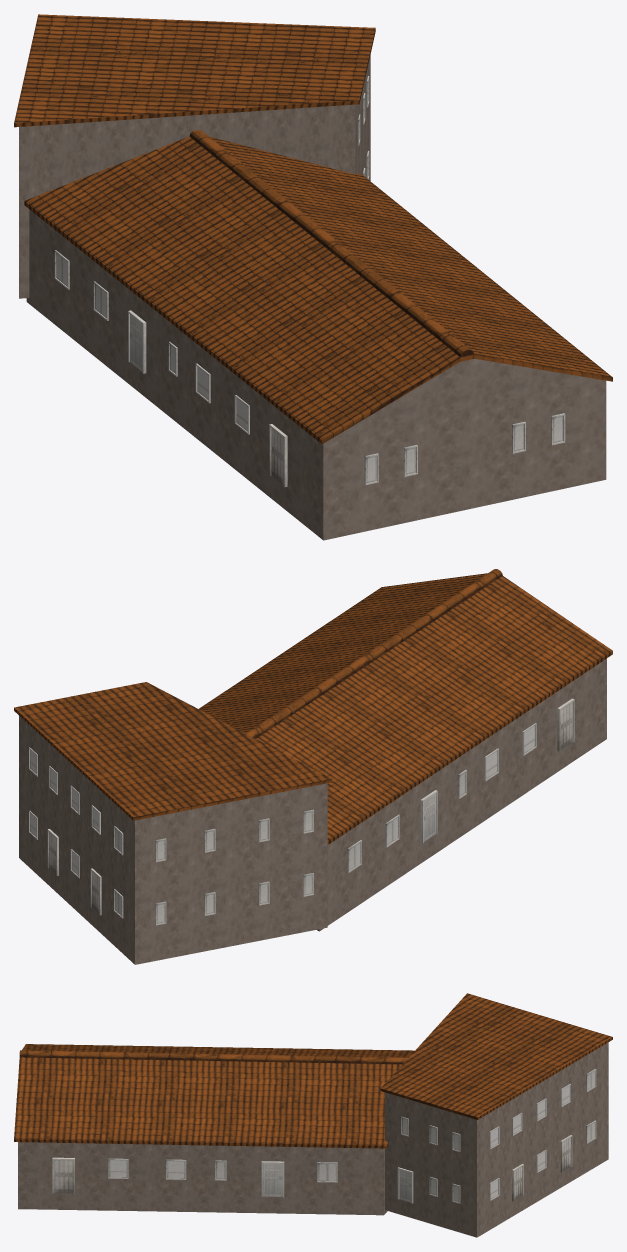
File: Casa_28.fbx
3 renders of one model, top to bottom at view 1: azimuth 30°, elevation 25°; view 2: azimuth 150°, elevation 25°; view 3: azimuth 270°, elevation 25°, orthographic. The views are drawn at different scales.
Parts seen in each view (by area): view 1: Casa_28; view 2: Casa_28; view 3: Casa_28.
Boxes of the visible parts, box(x1,y1,x2,y2) form: Casa_28: box(14, 14, 612, 540); Casa_28: box(14, 569, 612, 964); Casa_28: box(14, 993, 612, 1237).
Size of the model in its own units: 15.84 by 7.26 by 31.24.
